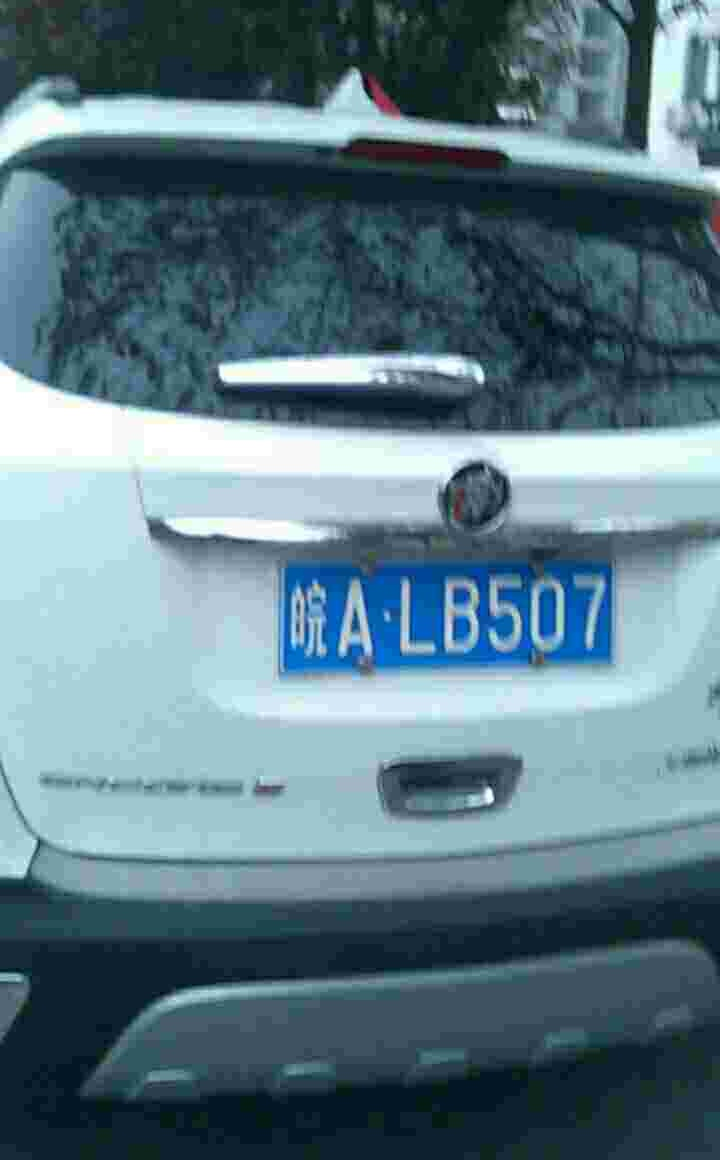car_blue: (272, 549, 625, 678)
